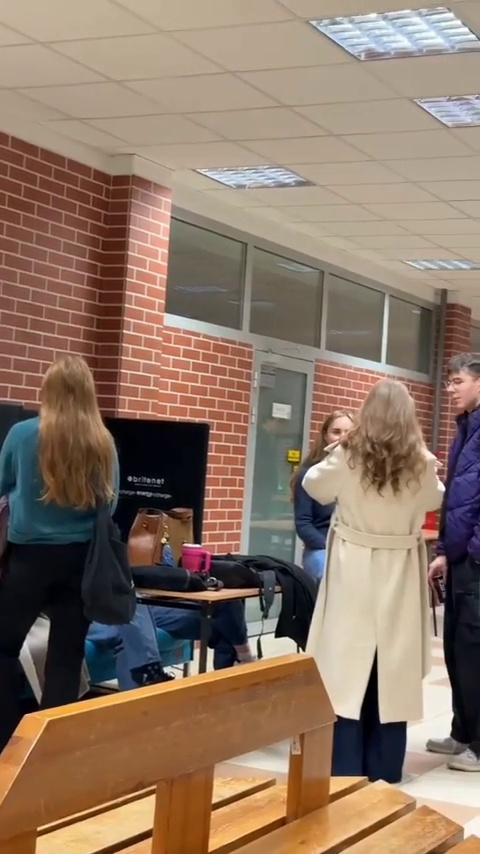no vest: (300, 368, 425, 728), (2, 353, 107, 704), (430, 332, 480, 733)
